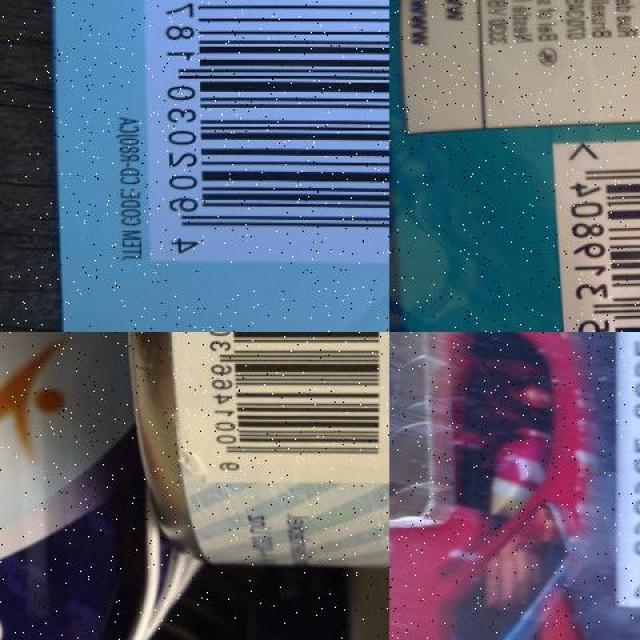Barcode: (137, 0, 389, 265), (200, 332, 389, 481), (550, 133, 640, 331)
